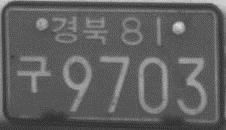0: (136, 56, 171, 116)
1: (150, 12, 165, 49)
3: (175, 56, 208, 119)
7: (97, 52, 131, 115)
8: (119, 14, 144, 48)
9: (60, 53, 92, 115)
경북_O: (49, 14, 108, 47)
구: (13, 52, 53, 94)
